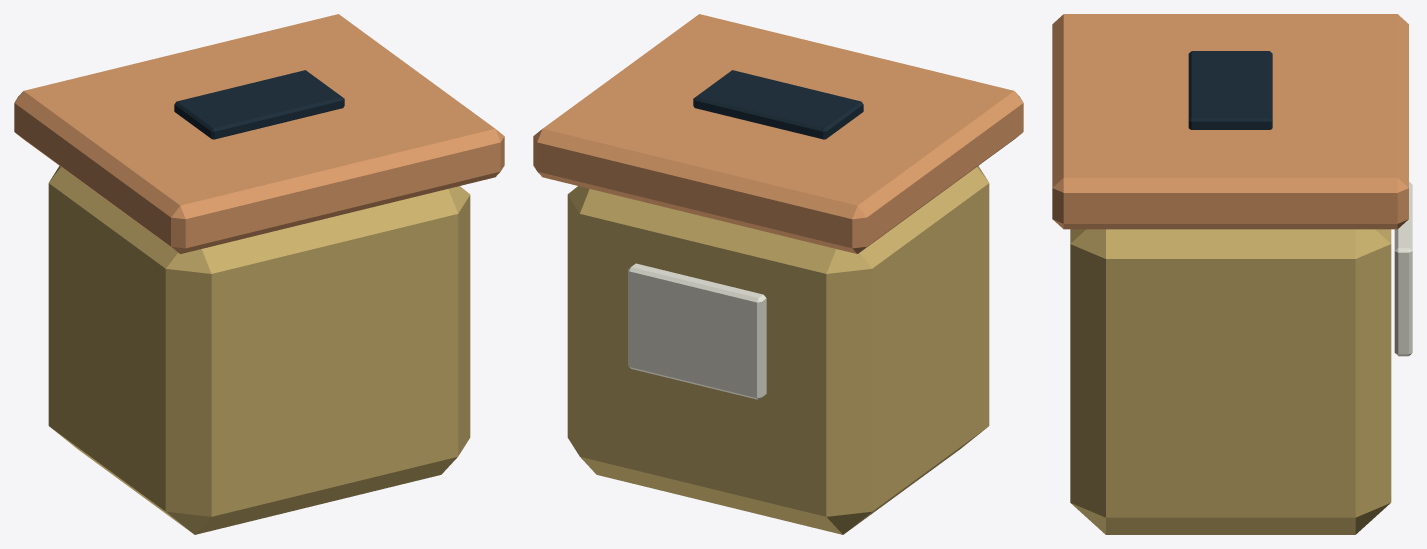
File: sharps_disposal_decor.glb
The picture shows the model from 3 angles, left to right: view 1: azimuth 30°, elevation 25°; view 2: azimuth 150°, elevation 25°; view 3: azimuth 270°, elevation 25°; orthographic projection. The views are drawn at different scales.
Visible parts, largest first — view 1: sharps_body, sharps_lid, lid_opening_mark; view 2: sharps_body, sharps_lid, warning_label, lid_opening_mark; view 3: sharps_body, sharps_lid, lid_opening_mark, warning_label.
Boxes of the visible parts, x1=… form: sharps_body: x1=48, y1=166, x2=470, y2=534; sharps_lid: x1=14, y1=14, x2=504, y2=253; lid_opening_mark: x1=174, y1=70, x2=344, y2=139; sharps_body: x1=567, y1=166, x2=989, y2=534; sharps_lid: x1=533, y1=14, x2=1023, y2=253; warning_label: x1=628, y1=263, x2=766, y2=399; lid_opening_mark: x1=693, y1=70, x2=863, y2=139; sharps_body: x1=1070, y1=229, x2=1391, y2=534; sharps_lid: x1=1052, y1=14, x2=1408, y2=229; lid_opening_mark: x1=1188, y1=51, x2=1272, y2=129; warning_label: x1=1394, y1=182, x2=1412, y2=356.
Size of the model in its own units: 0.23 by 0.239 by 0.202.
